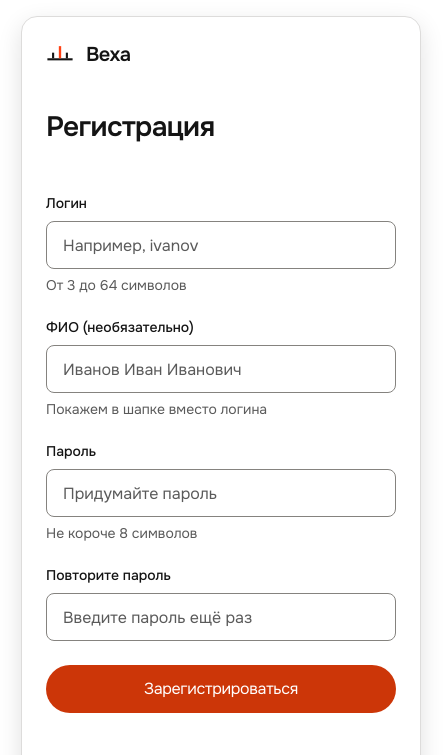
Test case: RegisterPage › validates password length and confirmation before sending
The width and height of the screenshot is (443, 755).
Type "newbie" into the field labelled "Логин".
click(221, 245); type("newbie")  # box [46, 221, 396, 269]
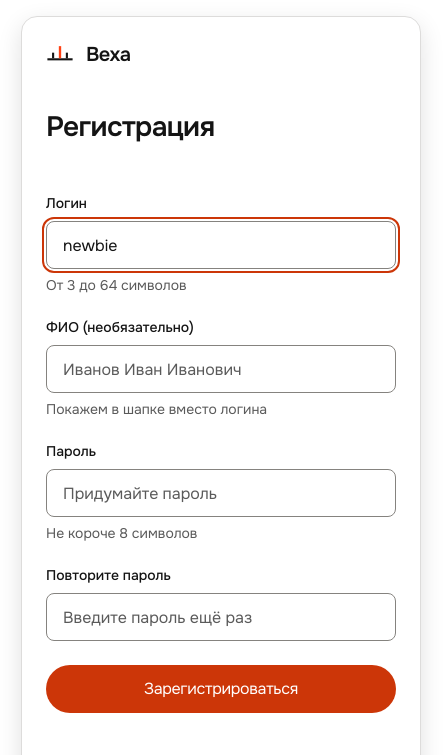
Type "short" into the password field labelled "Пароль".
click(221, 493); type("short")  # box [46, 469, 396, 517]
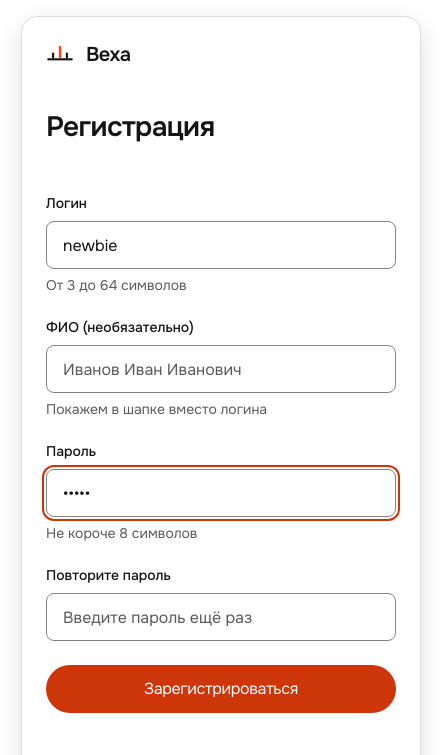
Type "different" into the password field labelled "Повторите пароль".
click(221, 617); type("different")  # box [46, 593, 396, 641]
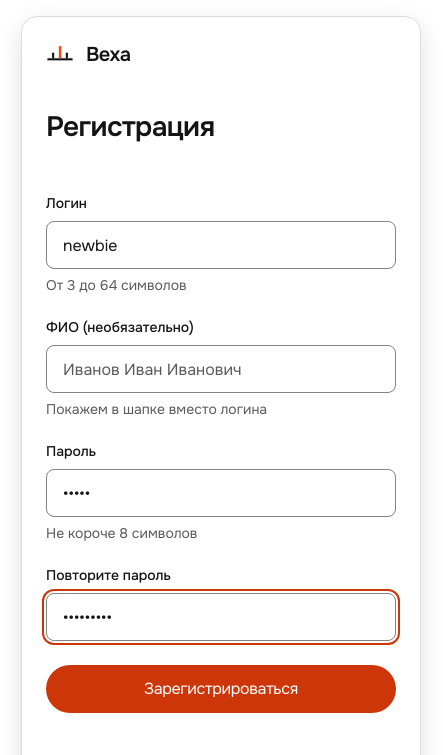
Click the button "Зарегистрироваться".
click(221, 689)  # box [46, 665, 396, 713]
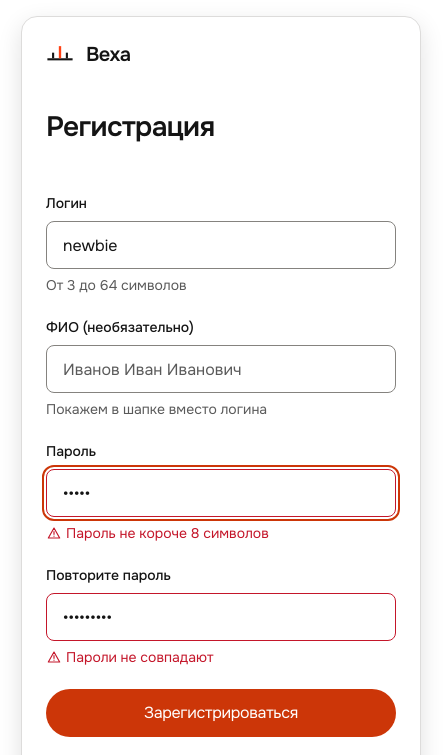
Expected: the text "Пароль не короче 8 символов" is shown, [46, 524, 269, 542]
